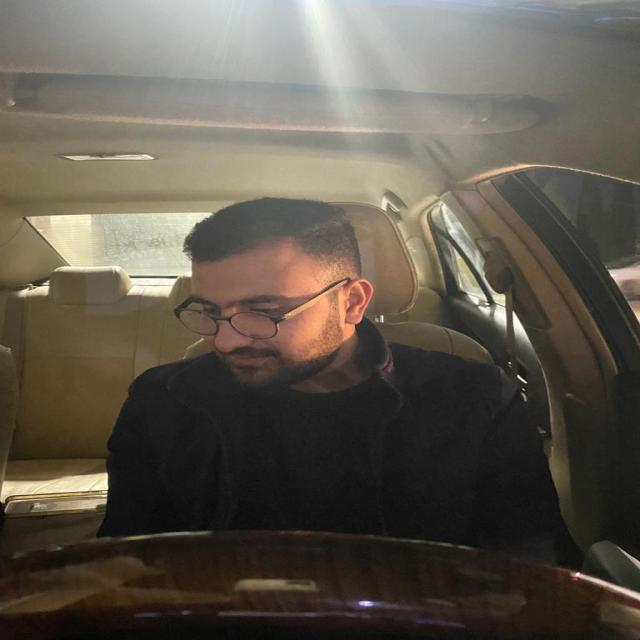person: (182, 192, 375, 392)
